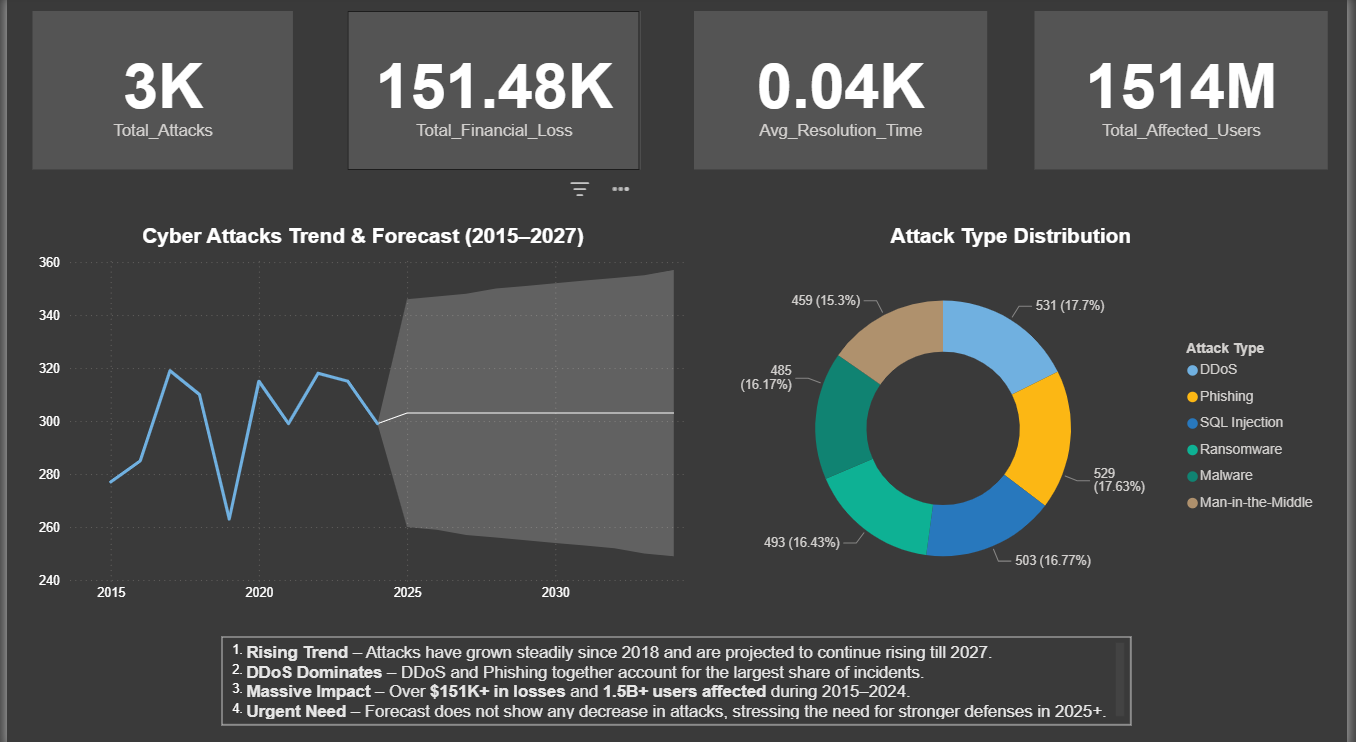

What the dashboard file says about the page in this screenshot:
{"tool":"powerbi","page":{"name":"Executive Overview","canvas":[1280,720],"ordinal":0},"visuals":[{"type":"card","fields":{"Values":["Global_Cybersecurity_Threats_2015-2024.Total_Attacks"]},"box":[24.4,14.6,248.9,151.3],"z":0},{"type":"card","fields":{"Values":["Global_Cybersecurity_Threats_2015-2024.Total_Financial_Loss"]},"box":[325.3,14.6,279.8,151.3],"z":1},{"type":"card","fields":{"Values":["Global_Cybersecurity_Threats_2015-2024.Avg_Resolution_Time"]},"box":[655.5,14.6,279.8,151.3],"z":2},{"type":"card","fields":{"Values":["Global_Cybersecurity_Threats_2015-2024.Total_Affected_Users"]},"box":[980.8,14.6,279.8,151.3],"z":3},{"type":"lineChart","title":"Cyber Attacks Trend & Forecast (2015–2027)","fields":{"Category":["Global_Cybersecurity_Threats_2015-2024.Year"],"Y":["Global_Cybersecurity_Threats_2015-2024.Attacks_Per_Year"]},"box":[24.4,218,631.1,367.6],"z":4},{"type":"donutChart","title":"Attack Type Distribution","fields":{"Y":["CountNonNull(Global_Cybersecurity_Threats_2015-2024.Attack Type)"],"Category":["Global_Cybersecurity_Threats_2015-2024.Attack Type"]},"box":[655.5,218,605.1,367.6],"z":5},{"type":"textbox","box":[204.9,611.6,868.6,84.6],"z":6}]}

Visuals, with their boxes in screenshot pixels (x1, y1, x2, y2), scaled from the page's 1280x720 canvas onto the 1356x742 screenshot:
card - Global_Cybersecurity_Threats_2015-2024.Total_Attacks: (26, 15, 290, 171)
card - Global_Cybersecurity_Threats_2015-2024.Total_Financial_Loss: (345, 15, 641, 171)
card - Global_Cybersecurity_Threats_2015-2024.Avg_Resolution_Time: (694, 15, 991, 171)
card - Global_Cybersecurity_Threats_2015-2024.Total_Affected_Users: (1039, 15, 1335, 171)
"Cyber Attacks Trend & Forecast (2015–2027)" lineChart: (26, 225, 694, 603)
"Attack Type Distribution" donutChart: (694, 225, 1335, 603)
textbox: (217, 630, 1137, 717)
